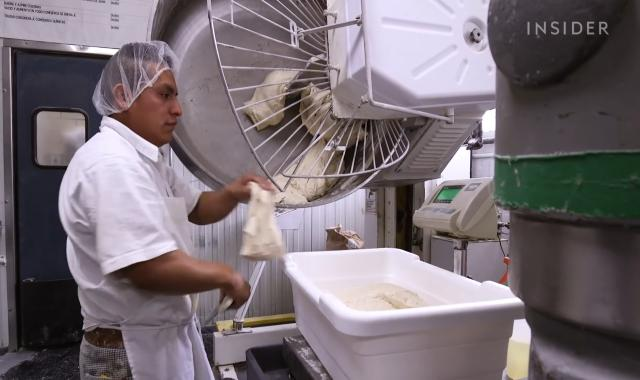hairnet: (90, 32, 187, 117)
